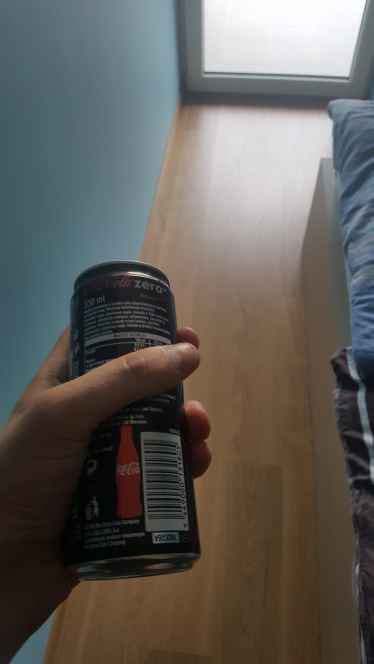colazero: (64, 250, 204, 591)
